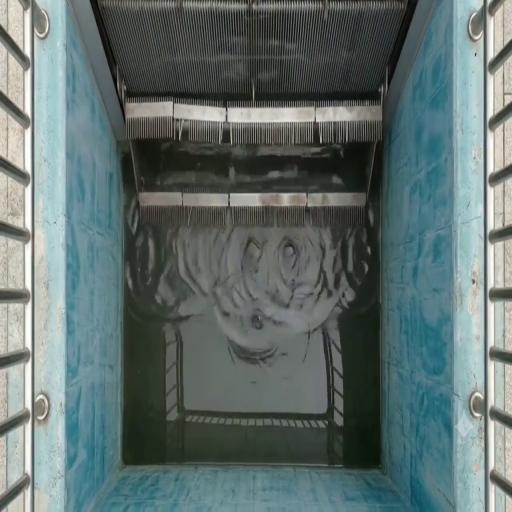rake_broken: (304, 110, 359, 152), (210, 116, 251, 158), (164, 106, 203, 149), (294, 194, 322, 237), (218, 198, 241, 240), (180, 194, 203, 232)
